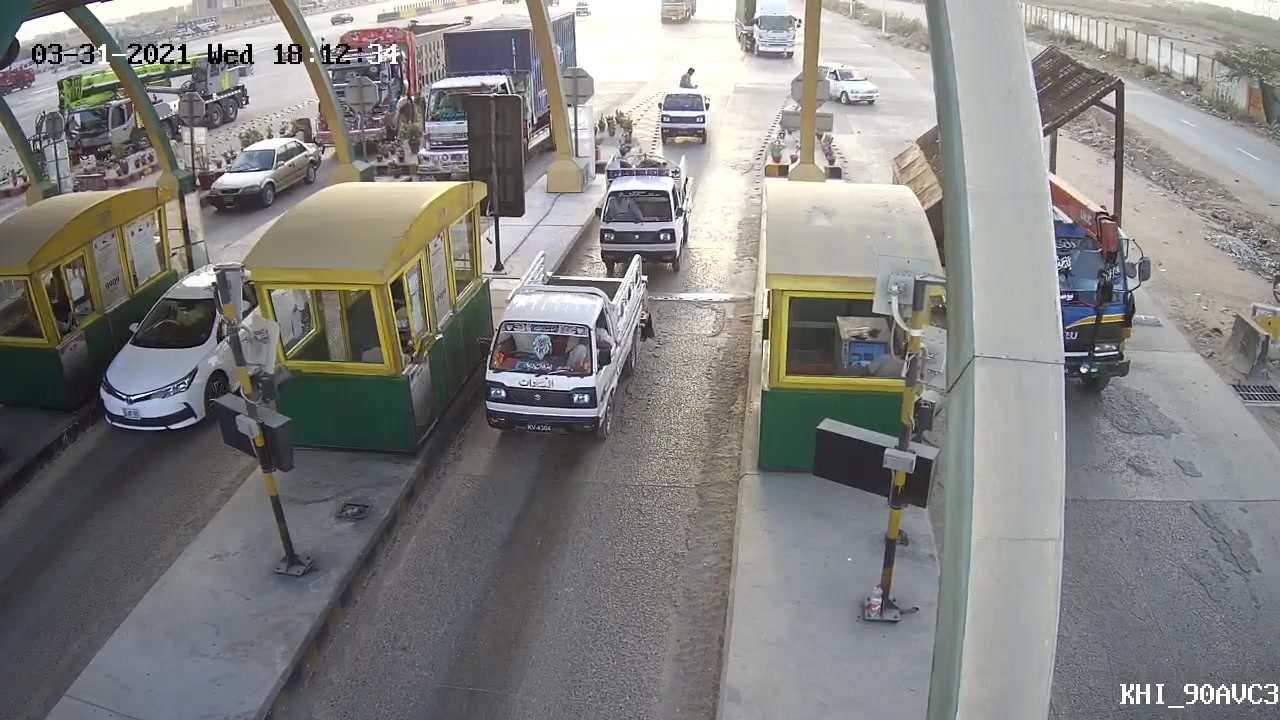F1: (470, 248, 662, 449), (586, 142, 710, 274)
